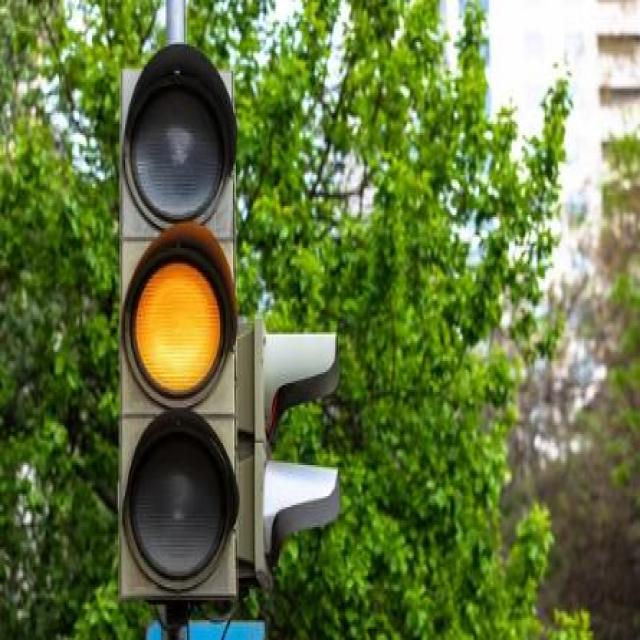traffic light: (114, 44, 340, 606), (114, 41, 248, 605), (116, 317, 343, 607)
